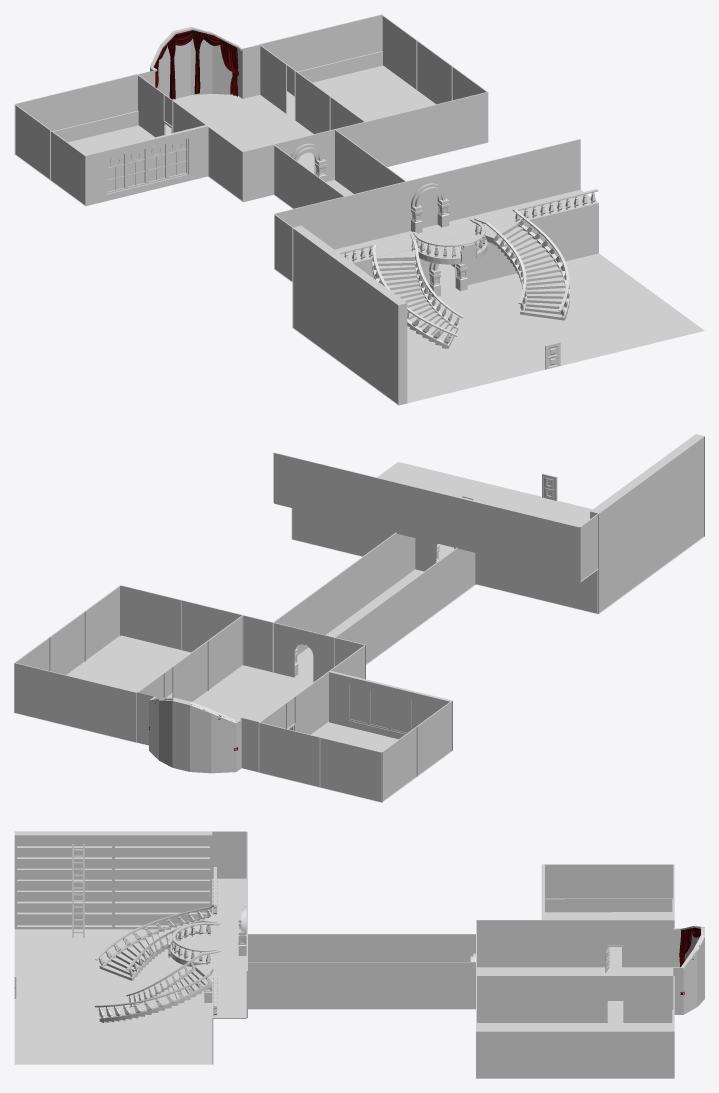
Rendered from fixed.fbx.
3 views of the same model, one above another, from view 1: azimuth 30°, elevation 25°; view 2: azimuth 150°, elevation 25°; view 3: azimuth 270°, elevation 25° (orthographic). The views are drawn at different scales.
Visible parts, largest first — view 1: Plane.008, Cube.034, Cube.045, Stairs, Cube.007, Plane.005, Cube.028, Plane.006, Cube.029, Cube.031, Cube.088, Cube.083 (+36 smaller); view 2: Cube.034, Cube.045, Cube.007, Cube.029, Cube.028, Cube.039, Cube.067, Plane.008, Plane.006, Plane.005, Cube.033, Cube.049 (+23 smaller); view 3: Plane.008, Cube.010, Cube.067, Cube.039, Cube.031, Stairs, Cube.044, Cube.094, Cube.091, Cube.092, Cube.093, Cube.082 (+19 smaller).
Boxes of the visible parts, x1,y1,x2,y2 form: Plane.008: (407, 253, 704, 403); Cube.034: (274, 139, 580, 249); Cube.045: (292, 227, 399, 405); Stairs: (371, 224, 569, 348); Cube.007: (138, 26, 259, 111); Plane.005: (165, 95, 314, 173); Cube.028: (259, 14, 382, 71); Plane.006: (287, 66, 435, 133); Cube.029: (354, 204, 598, 283); Cube.031: (275, 189, 598, 277); Cube.088: (427, 92, 488, 157); Cube.083: (366, 107, 427, 166); Cube.034: (273, 452, 579, 576); Cube.045: (598, 436, 704, 613); Cube.007: (137, 692, 258, 773); Cube.029: (291, 508, 597, 614); Cube.028: (14, 662, 136, 742); Cube.039: (335, 547, 476, 664); Cube.067: (273, 532, 414, 654); Plane.008: (377, 462, 592, 559); Plane.006: (67, 635, 190, 697); Plane.005: (192, 665, 312, 721); Cube.033: (258, 722, 320, 787); Cube.049: (320, 737, 381, 802); Plane.008: (14, 929, 212, 1064); Cube.010: (14, 831, 212, 929); Cube.067: (248, 962, 475, 1009); Cube.039: (248, 934, 475, 961); Cube.031: (212, 878, 246, 1018); Stairs: (99, 915, 212, 1023); Cube.044: (541, 975, 607, 1022); Cube.094: (541, 920, 607, 967); Cube.091: (477, 1031, 542, 1078); Cube.092: (543, 1031, 608, 1078); Cube.093: (608, 1031, 673, 1078); Cube.082: (476, 975, 541, 1022).
Size of the model in its own units: 3610 by 942 by 6294.
